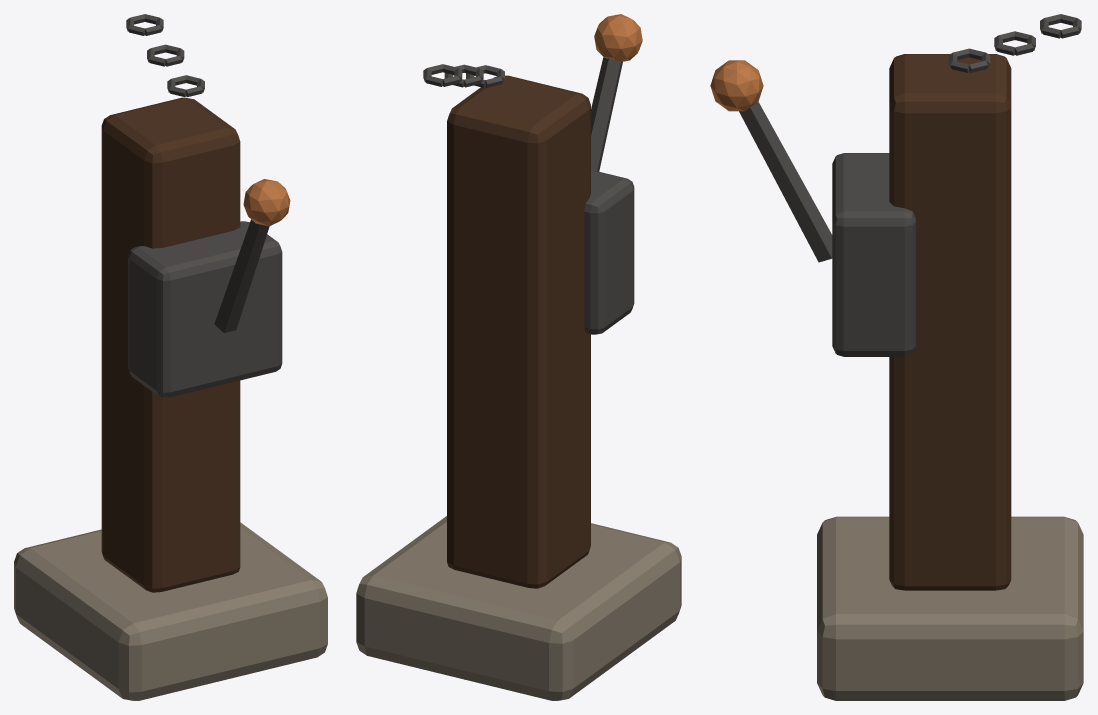
The model's file is verrou.glb.
The picture shows the model from 3 angles, left to right: view 1: azimuth 30°, elevation 25°; view 2: azimuth 150°, elevation 25°; view 3: azimuth 270°, elevation 25°; orthographic projection. The views are drawn at different scales.
Parts seen in each view (by area): view 1: verrou; view 2: verrou; view 3: verrou.
Part boxes in pixels (x1,y1,x2,y2): verrou: (14,14,327,700); verrou: (356,14,681,700); verrou: (710,14,1083,700).
Size of the model in its own units: 0.7 by 1.86 by 0.98.
